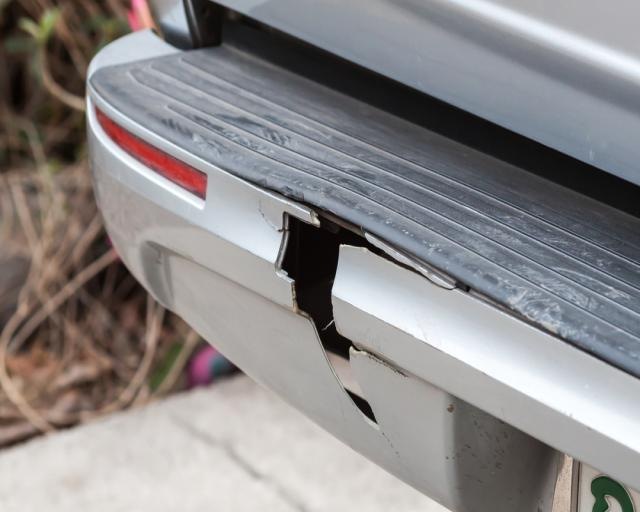crack: (256, 197, 457, 431)
